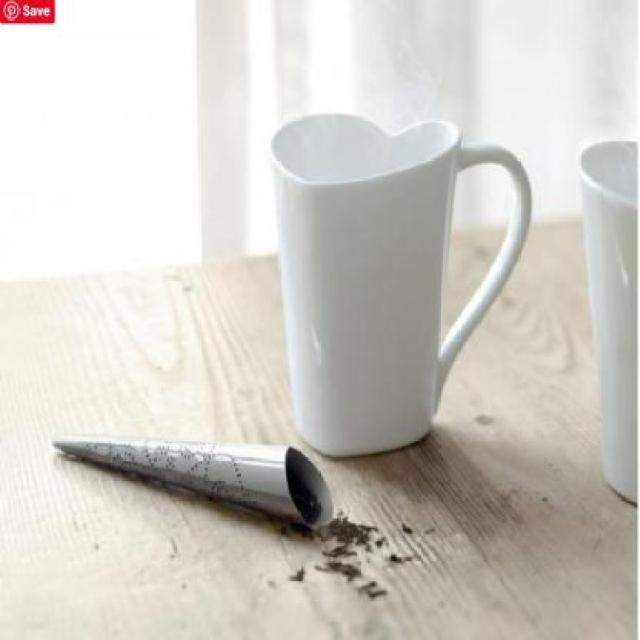cup: (255, 100, 539, 471)
